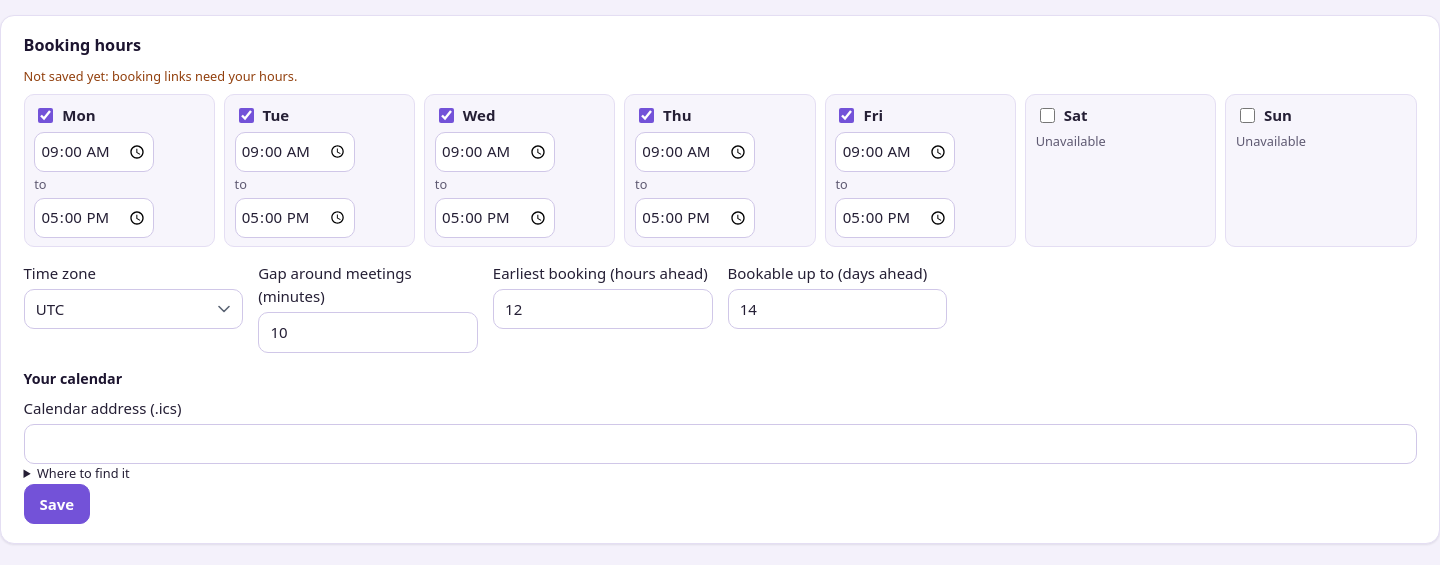
Test: booking hours › saves the hours and the calendar address
The width and height of the screenshot is (1440, 565).
Expected: the text "Not saved yet: booking links need your hours." is shown, [24,67,297,85]
Click the checkbox labelled "Sat" at (1047, 115), box [1040,108,1055,123]
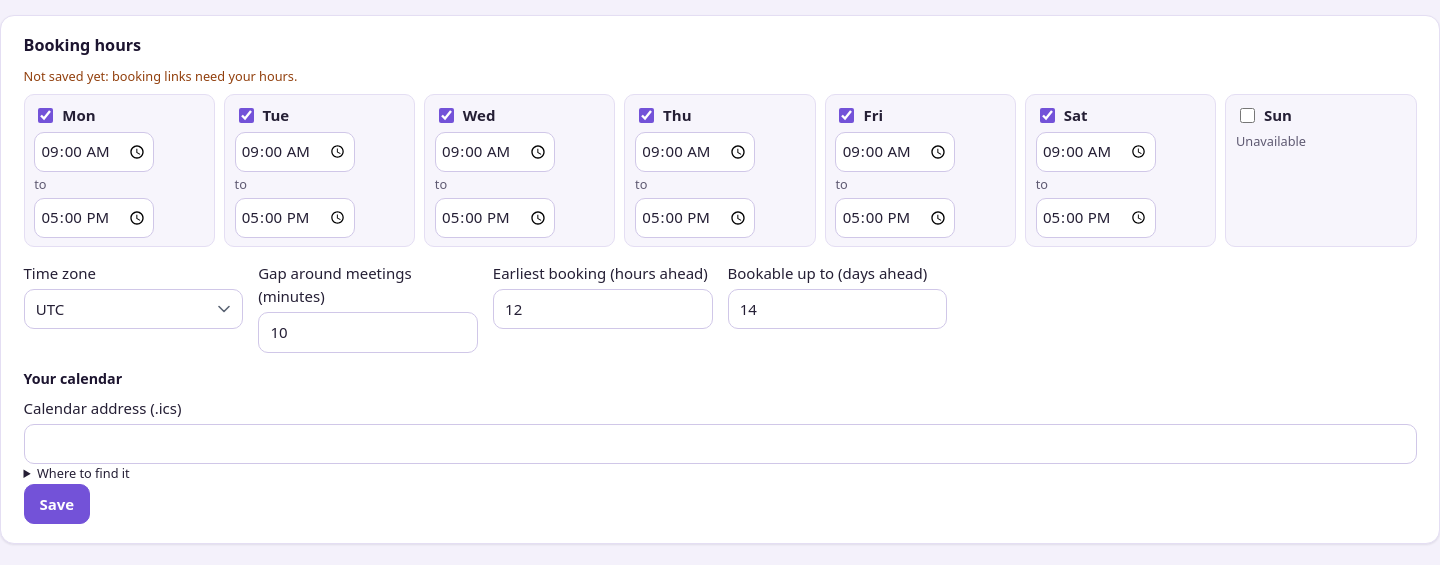
Replace the text in the time field named "Sat to" with "12:00" at (1096, 218), box [1036,198,1156,238]
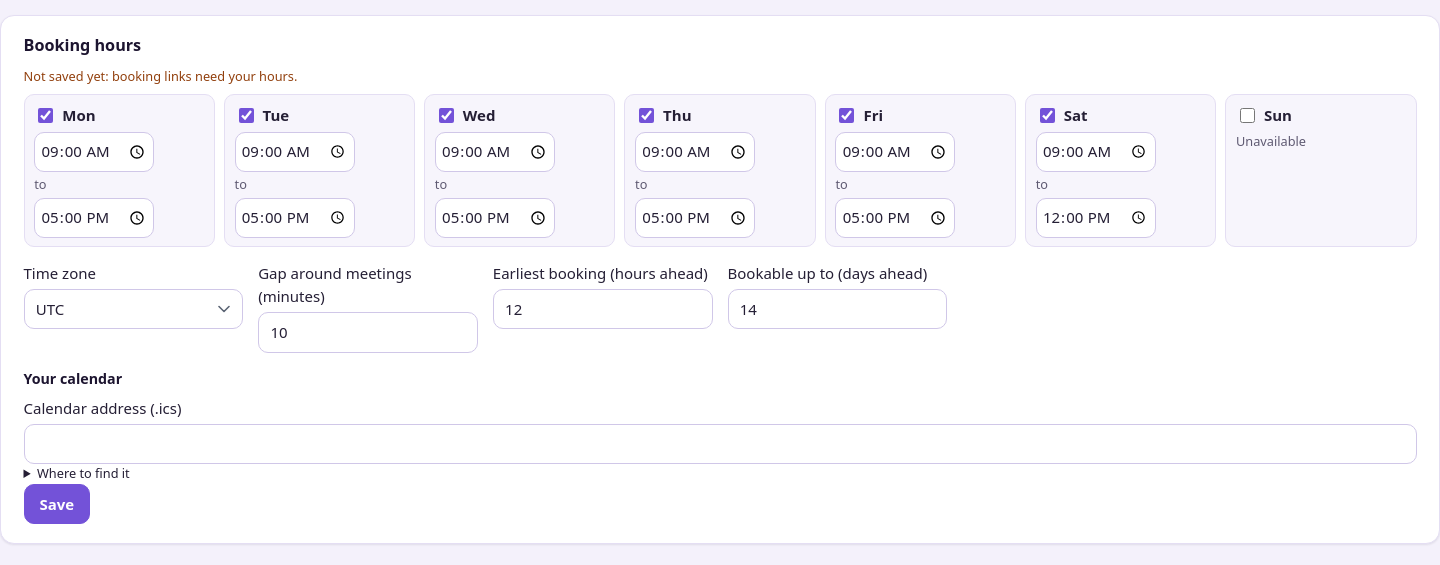
Type "https://calendar.google.com/calendar/ical/x/private-1/basic.ics" into the field labelled "Calendar address (.ics)" at (720, 444), box [24,424,1416,464]
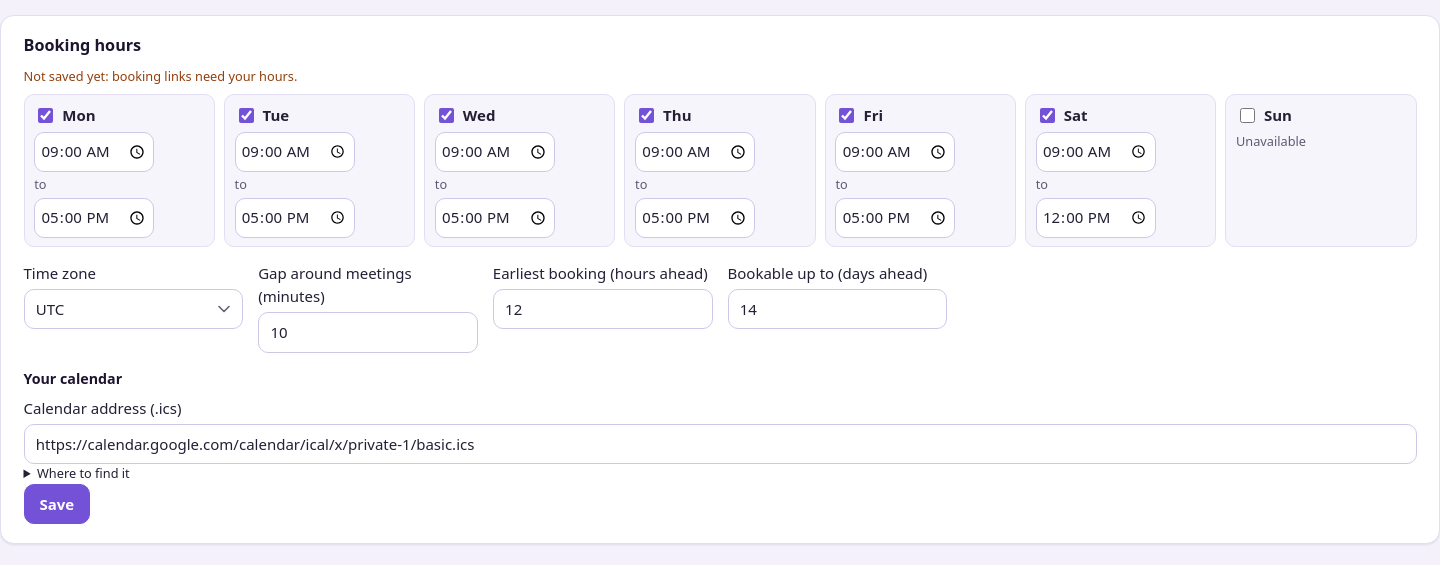
Click the button "Save" at (57, 504), box [24,484,90,524]
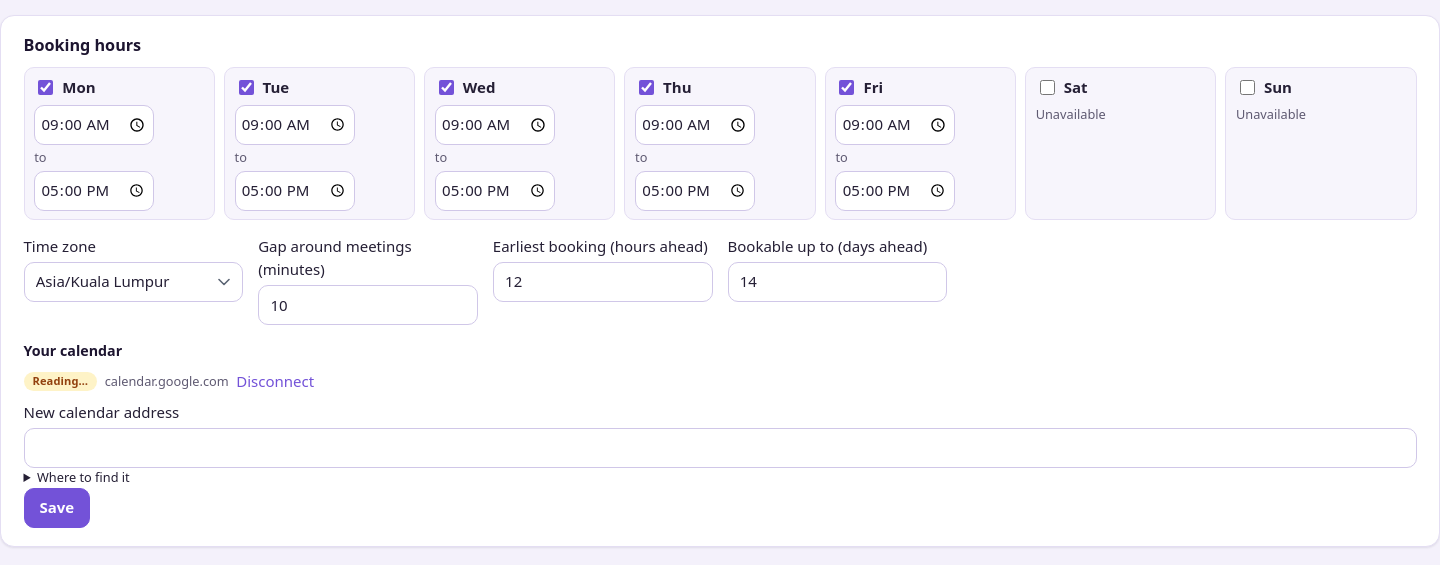
Result: the text "Reading…" is shown at [24,372,97,391]
